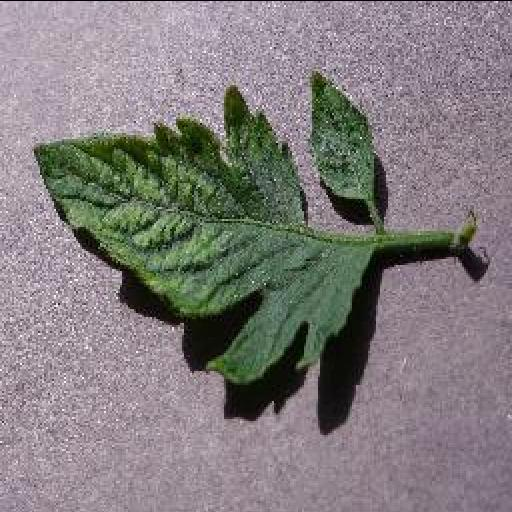disease_tomato: (34, 69, 384, 379)
